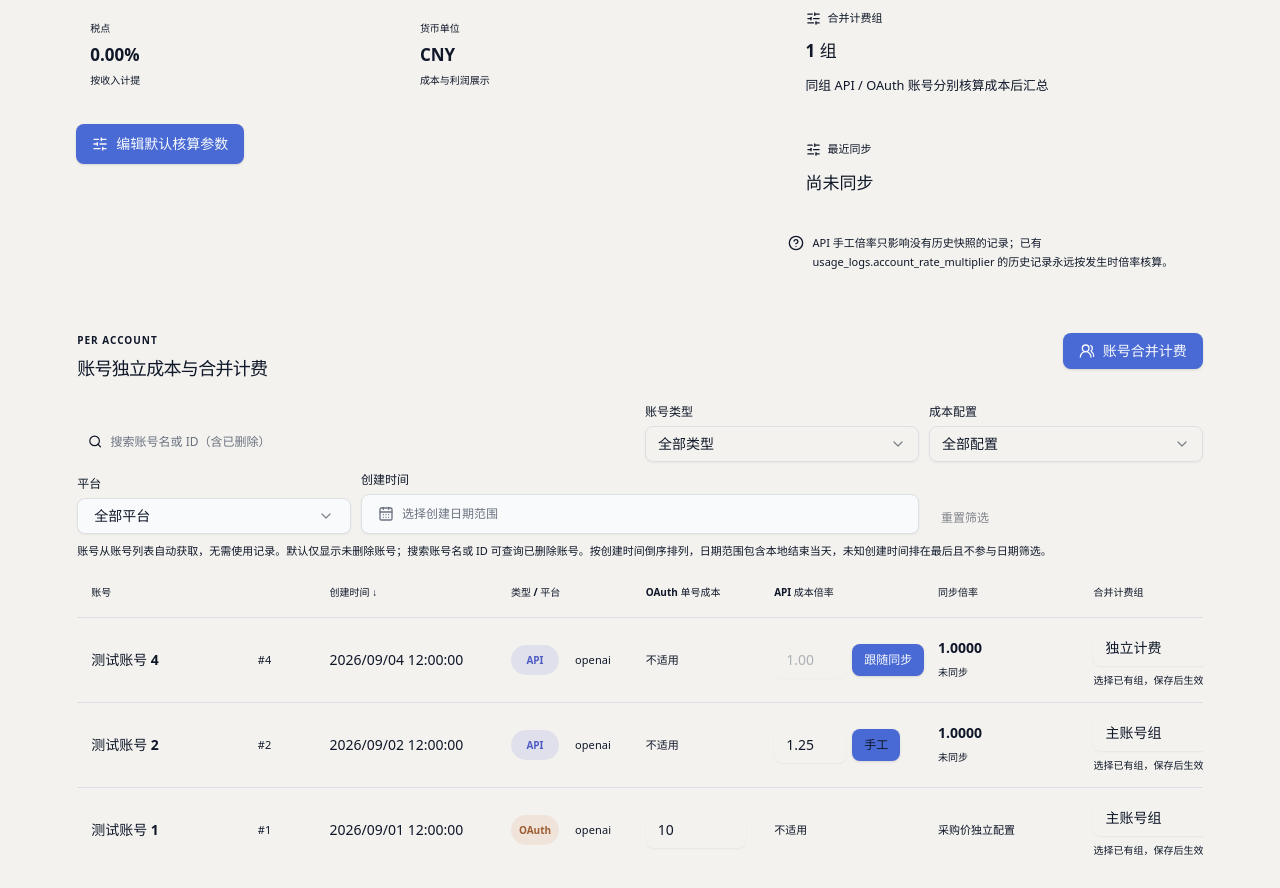
Test: 成本配置列表 › 按成本配置状态筛选独立配置和默认配置账号
(page scrolled)
Check: the table is shown, box [77,577,1203,872]
Step 1. Press ArrowDown in the dropdown named "成本配置", box [929,426,1203,462]
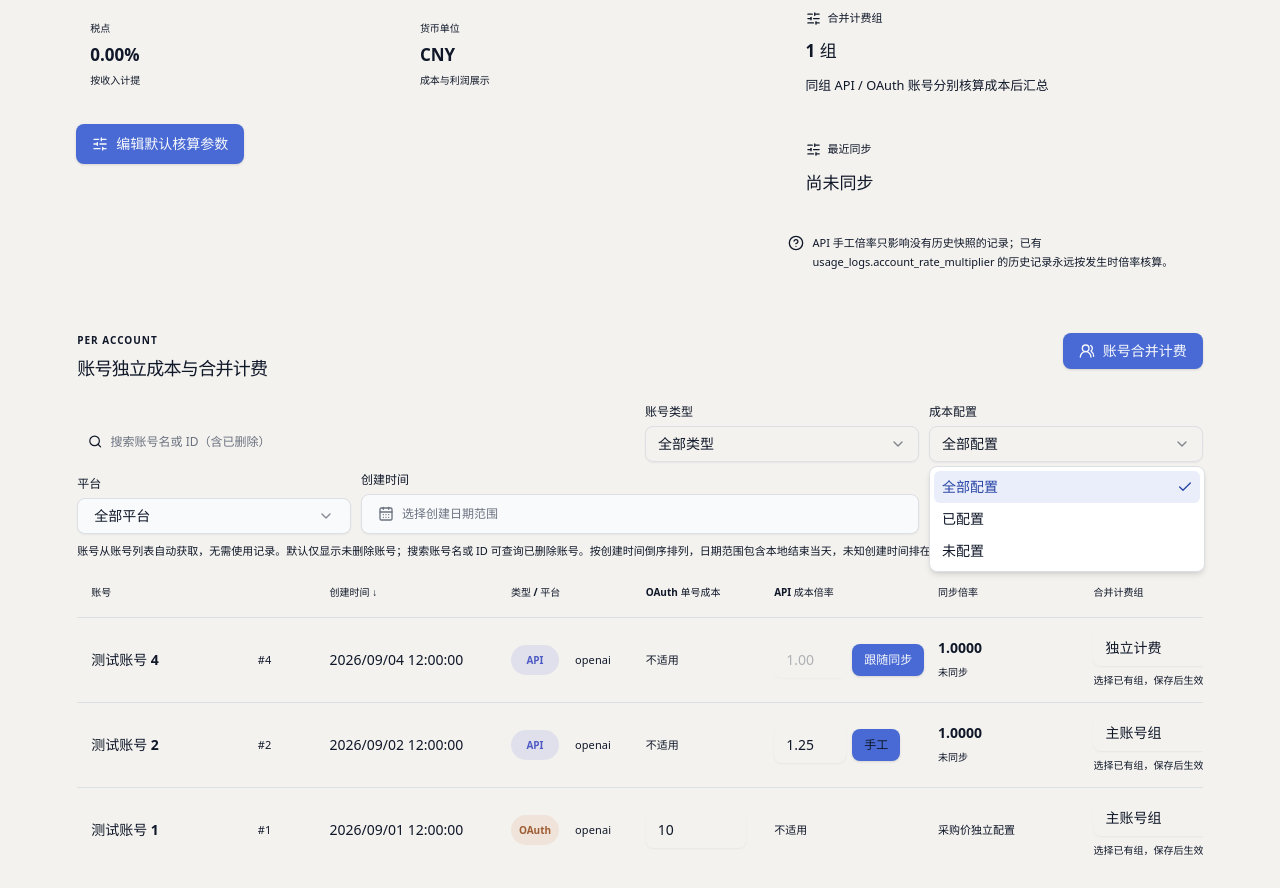
Step 2. Click the option "已配置" → (963, 518), box [942,509,984,528]
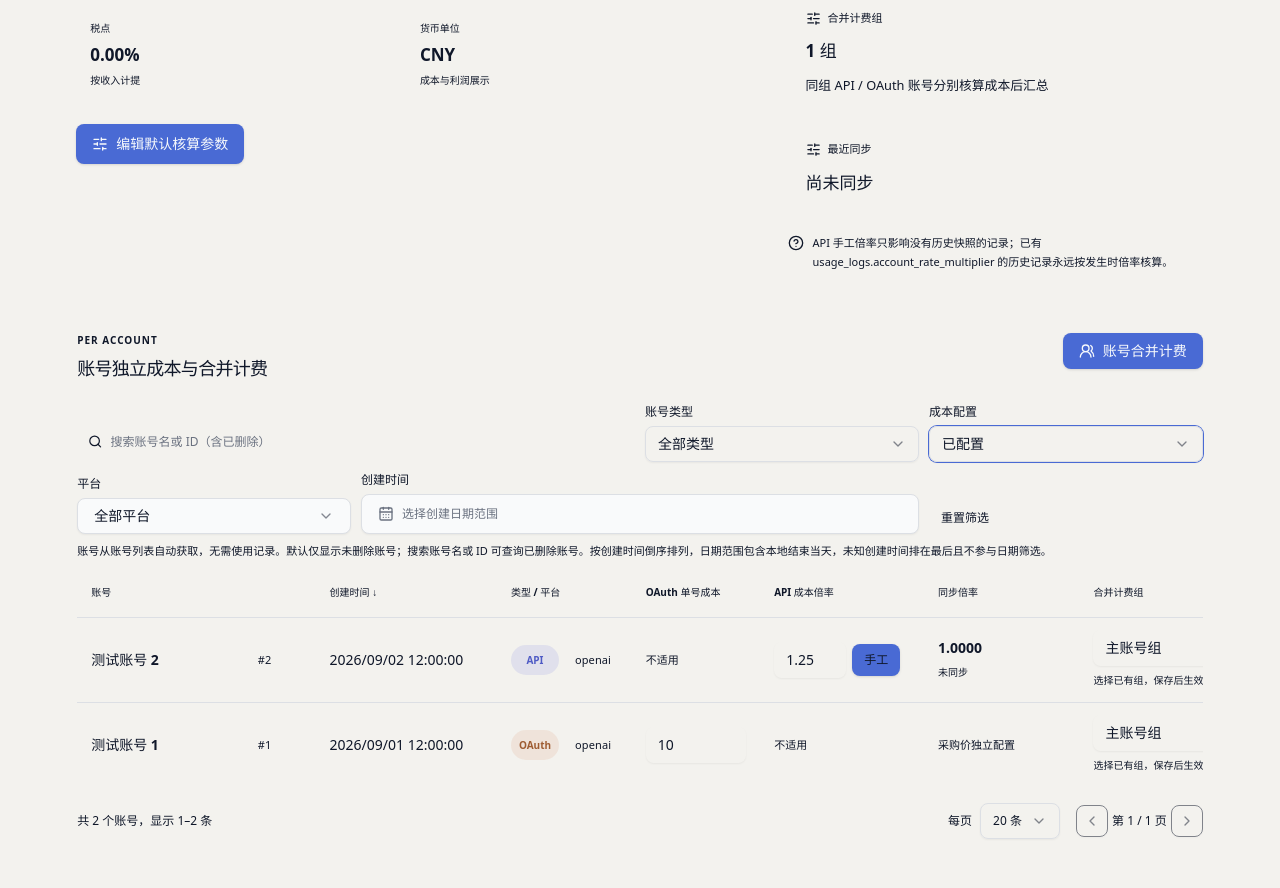
Check: the text "测试账号 1" is shown, box [91,734,159,754]
Check: the list "全部配置 已配置 未配置" is gone
Step 3. Press ArrowDown in the dropdown named "成本配置", box [929,426,1203,462]
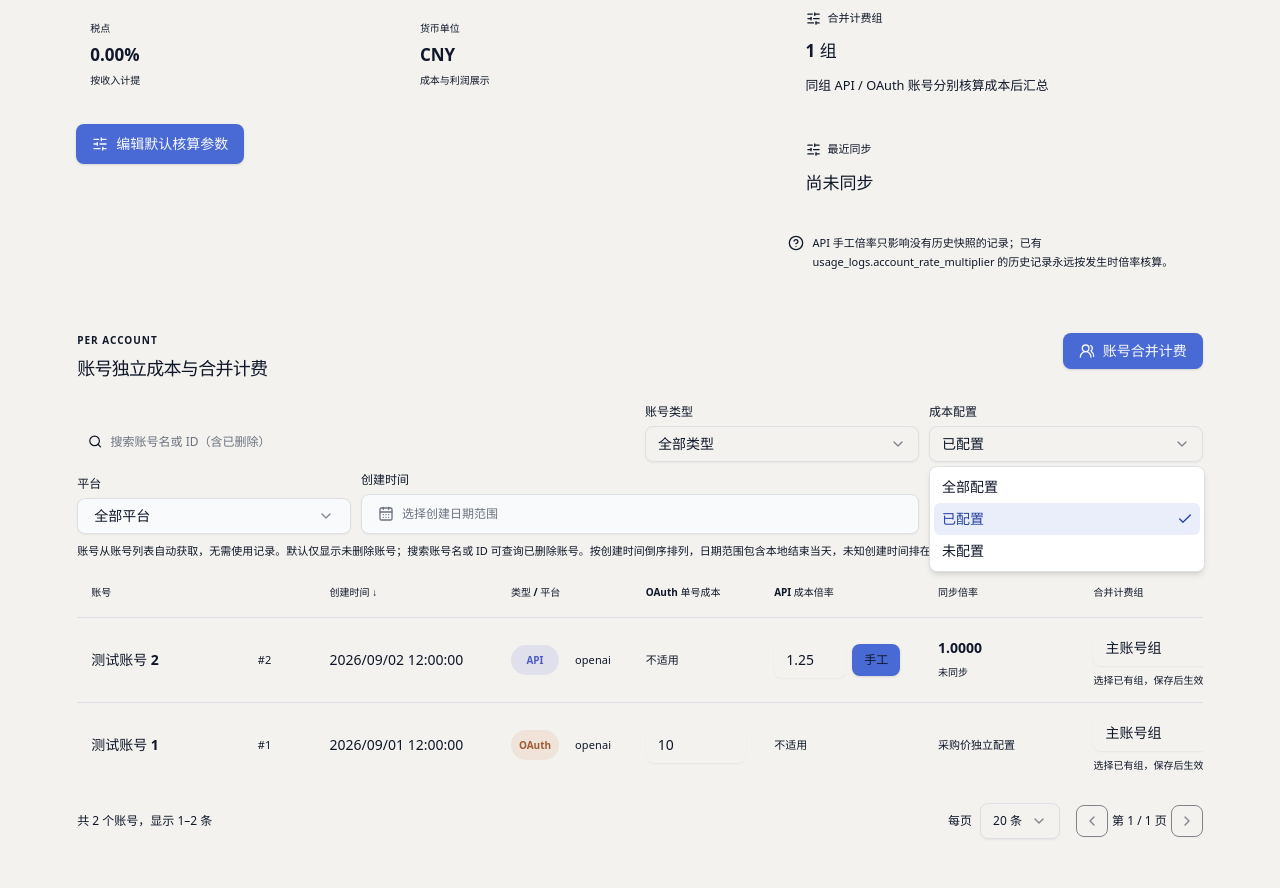
Step 4. Click the option "未配置" → (963, 550), box [942,541,984,560]
(page scrolled)
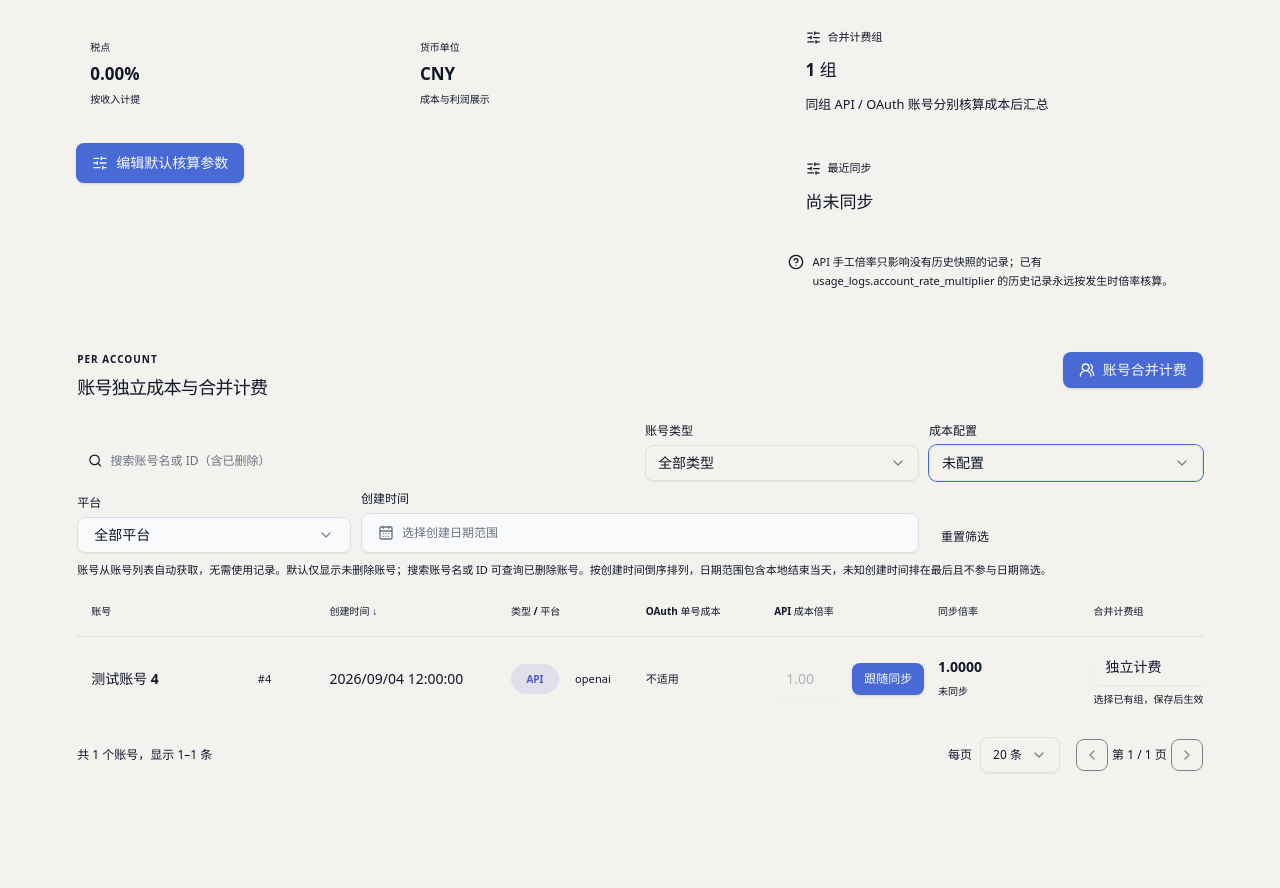
Check: the list "全部配置 已配置 未配置" is gone
Check: the text "测试账号 4" is shown, box [91,668,159,688]
Step 5. Click the button "重置筛选" → (965, 537), box [929,521,1001,553]
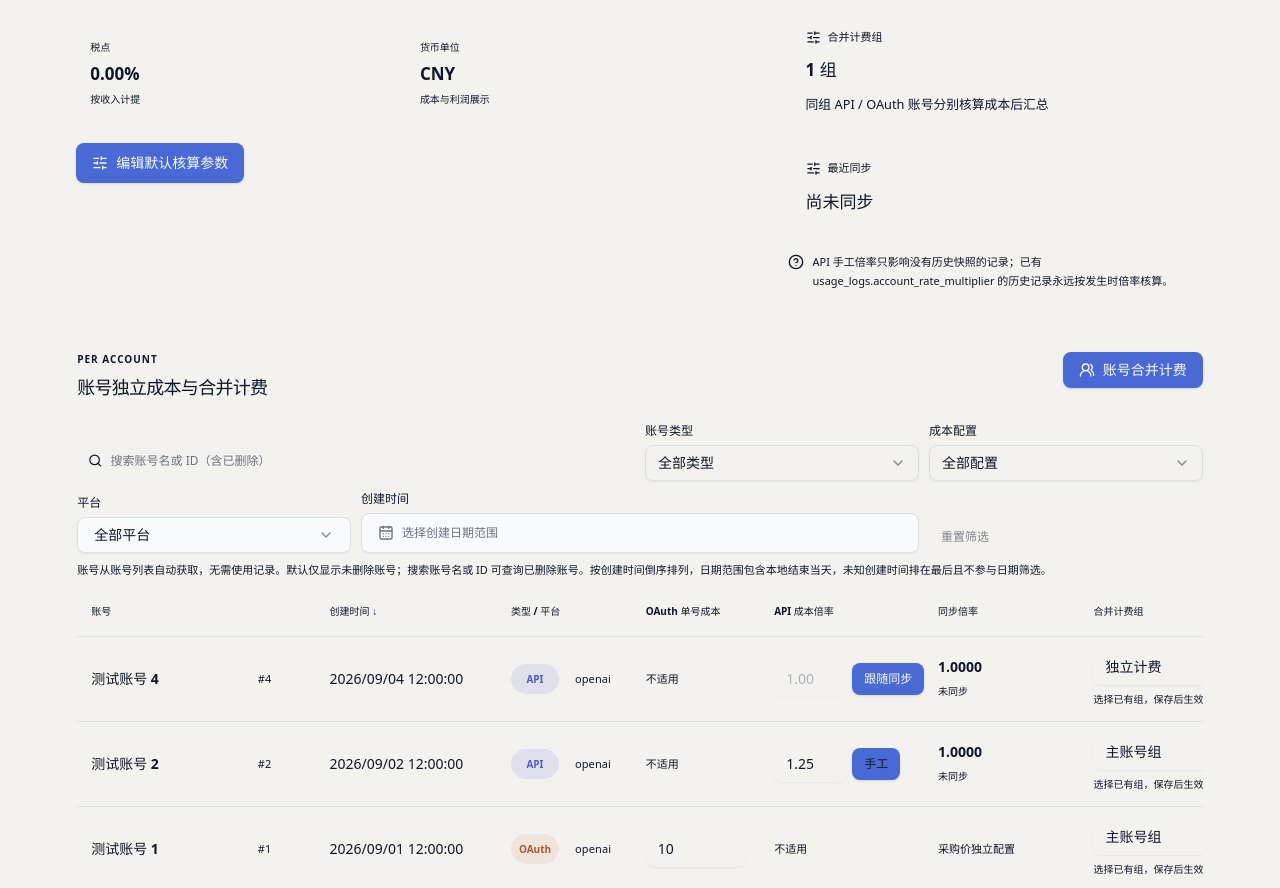
Check: the dropdown named "成本配置" reads "全部配置", box [929,445,1203,481]
